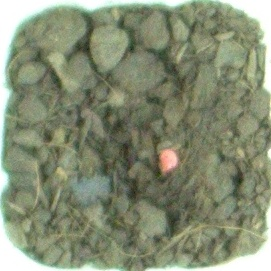pepper seed: (68, 59, 248, 235)
